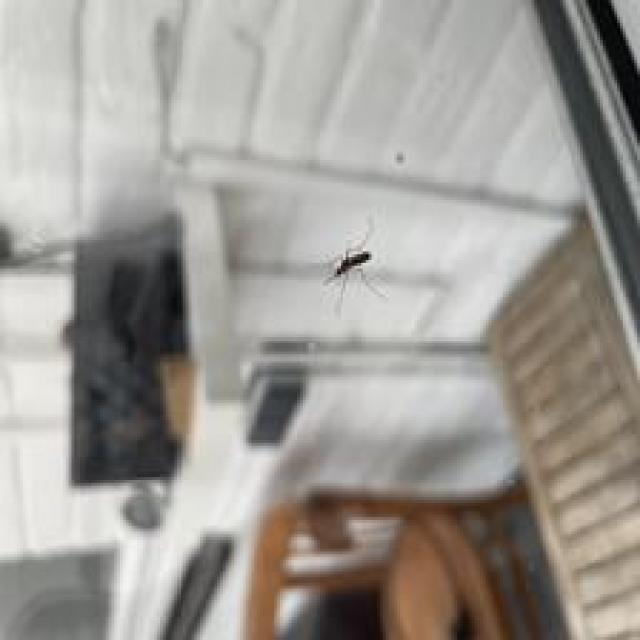Culex: (322, 217, 387, 314)
